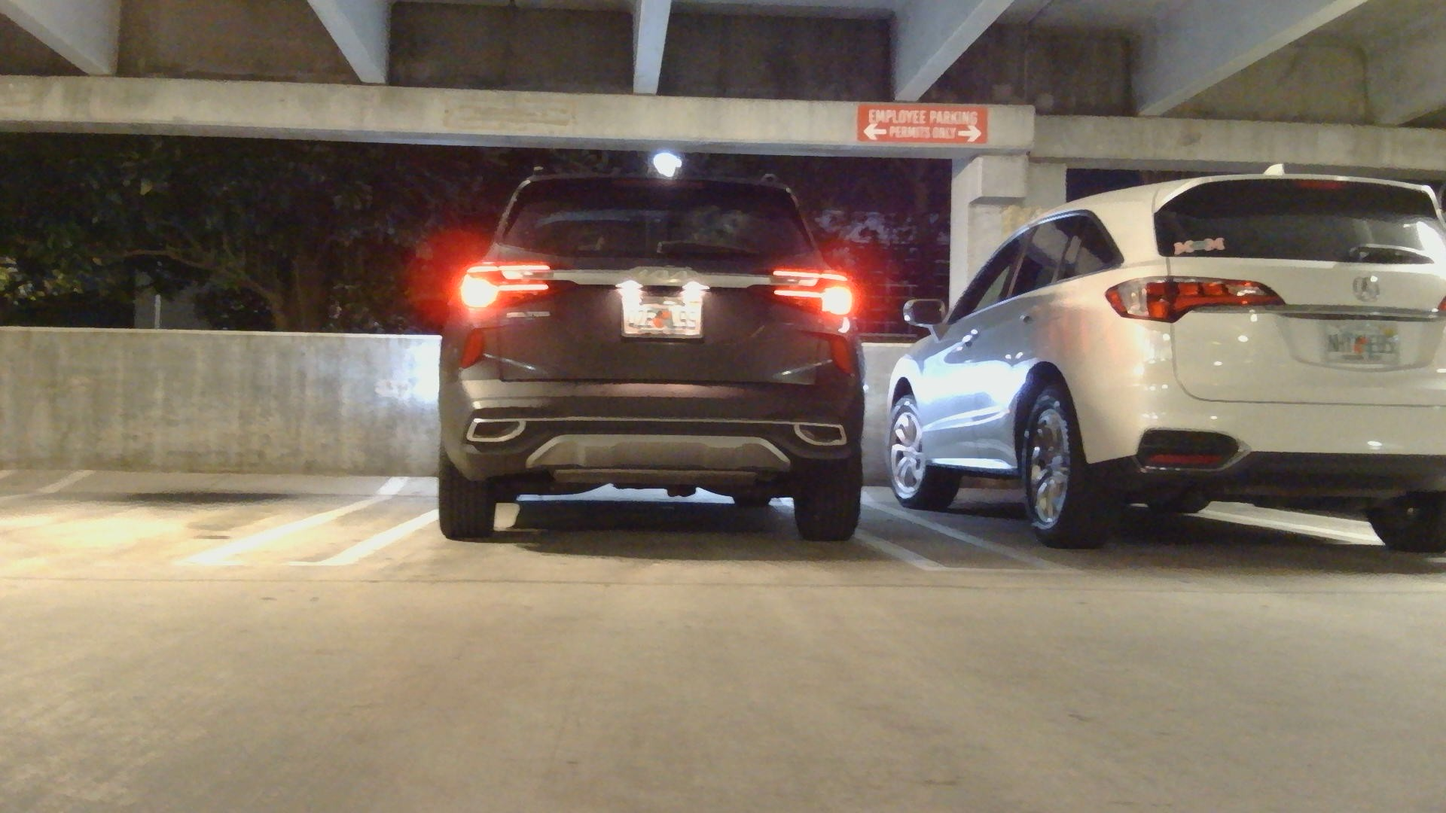empty_spot: (0, 388, 418, 569)
occupied_spot: (326, 150, 979, 574), (855, 147, 1446, 604)
